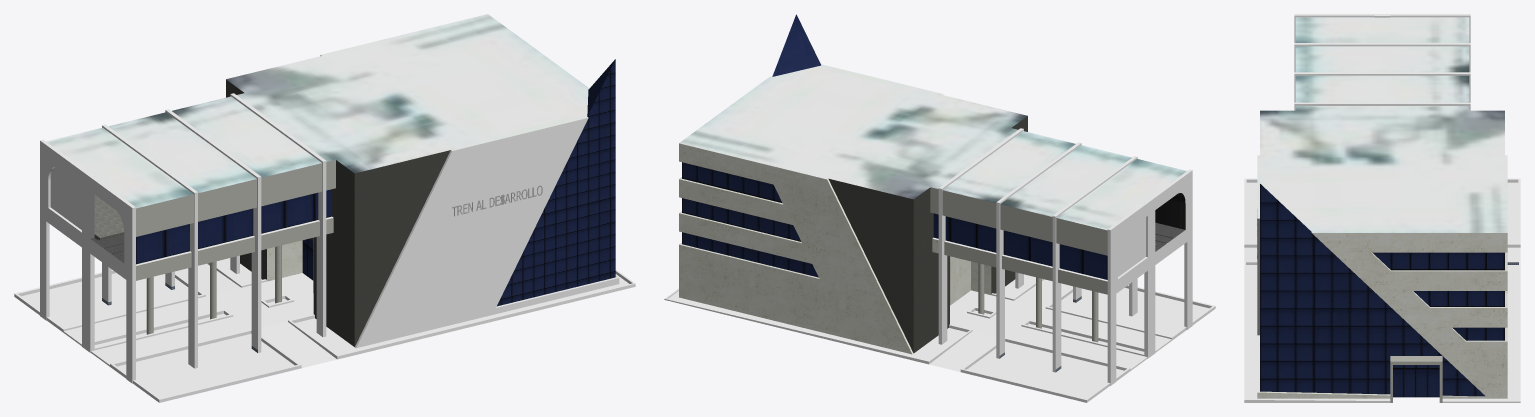
Rendered from tren.obj.
The picture shows the model from 3 angles, left to right: view 1: azimuth 30°, elevation 25°; view 2: azimuth 150°, elevation 25°; view 3: azimuth 270°, elevation 25°; orthographic projection. The views are drawn at different scales.
Visible parts, largest first — view 1: Mesh19 Model; view 2: Mesh19 Model; view 3: Mesh19 Model.
Boxes of the visible parts, x1,y1,x2,y2 form: Mesh19 Model: [14, 14, 635, 402]; Mesh19 Model: [664, 14, 1215, 402]; Mesh19 Model: [1244, 14, 1520, 402].
Size of what is drawn, in the model's own units: 40.2 by 18.12 by 21.2.
34 materials, 31 textured.
